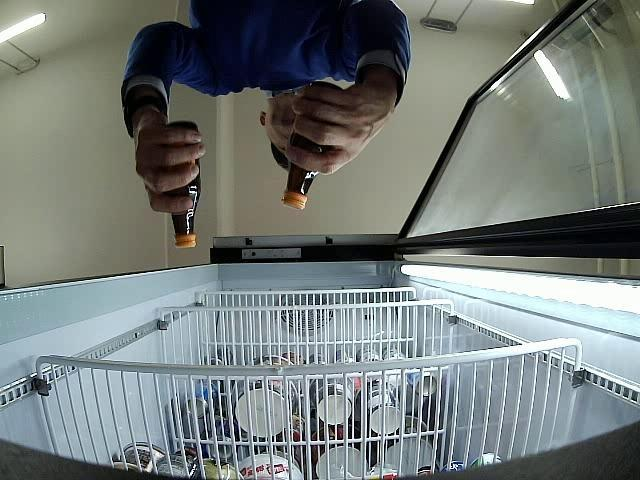17_vita500: (166, 121, 197, 248), (280, 133, 332, 206)
